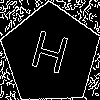H: (25, 29, 72, 84)
